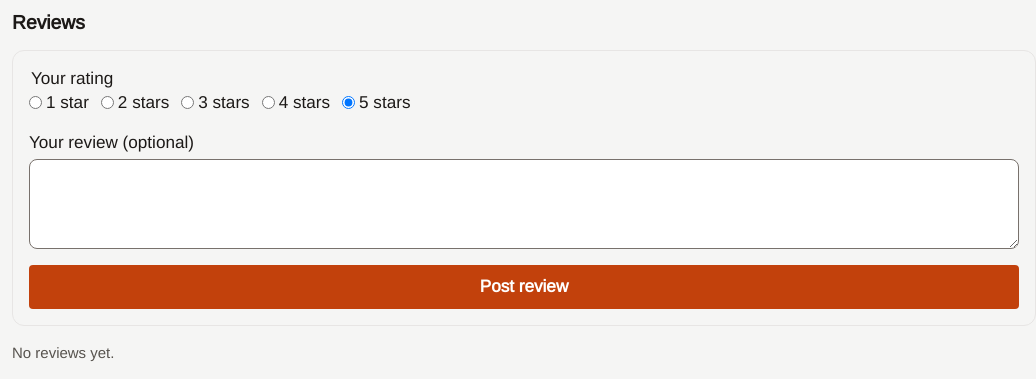
Test case: ProductReviews › lets a buyer who received the product post a review
This screenshot has width=1036, height=379.
Click the radio button labelled "3 stars": (188, 103) [181,96,194,109]
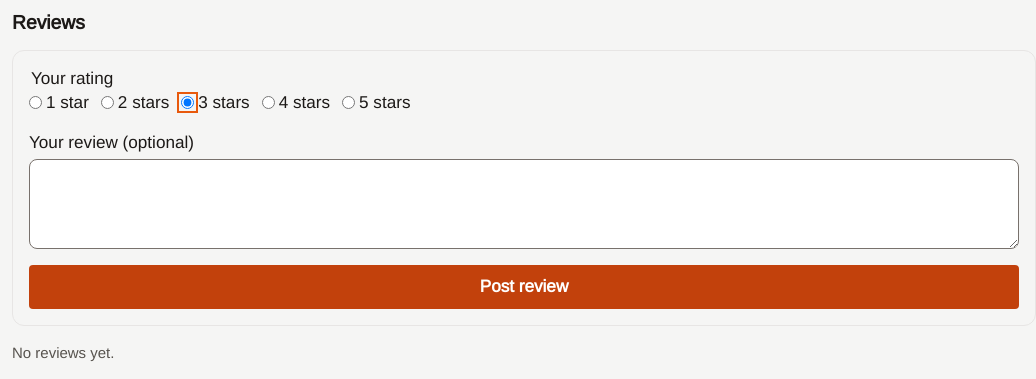
In the text box labelled "Your review (optional)": (524, 204) [29,159,1019,249], type "Nice"
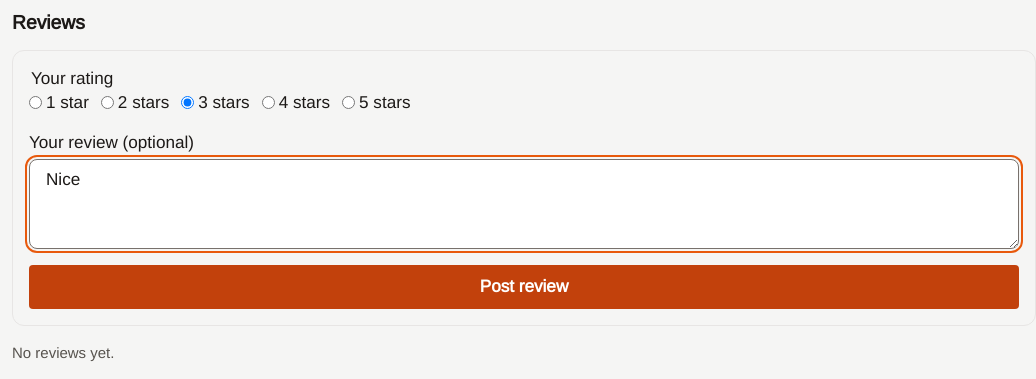
Click the button "Post review": (524, 287) [29,265,1019,309]
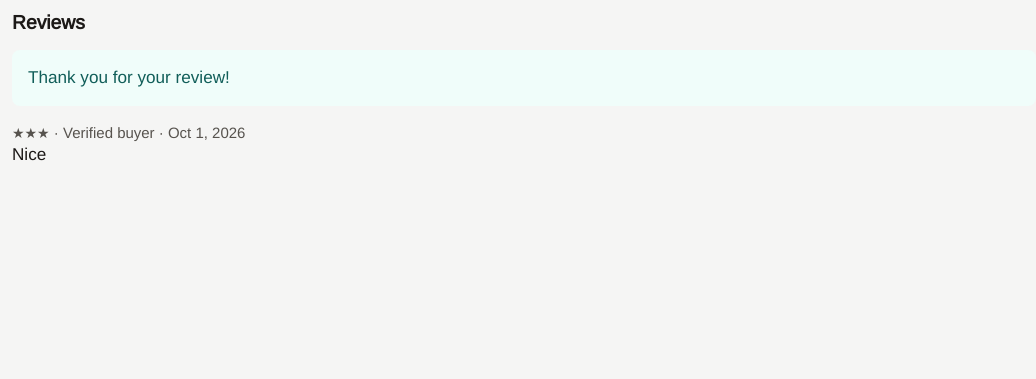
Check: the text "Thank you for your review!" is shown, box [28,68,230,87]
Check: the text "Nice" is shown, box [12,145,46,164]
Check: the button "Post review" is gone
